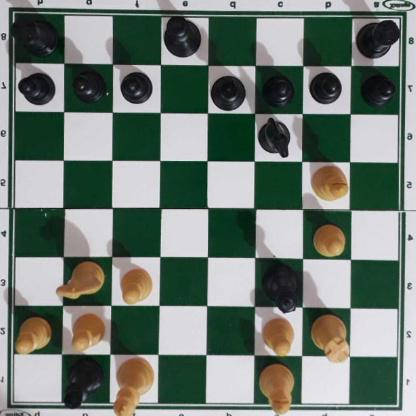black-bishop: (63, 358, 105, 410), (211, 73, 248, 111)
black-king: (164, 14, 204, 57)
black-knight: (257, 117, 294, 158)
black-pawn: (20, 69, 56, 105), (72, 68, 106, 101), (121, 68, 153, 103), (363, 71, 396, 104), (264, 71, 295, 106), (312, 70, 343, 104)
black-queen: (262, 261, 302, 315)
black-rook: (356, 15, 404, 58), (10, 14, 58, 55)
white-bishop: (257, 362, 295, 414), (312, 164, 350, 201)
white-king: (111, 357, 155, 416)
white-knight: (55, 259, 107, 300)
white-pawn: (70, 312, 107, 352), (262, 316, 297, 356), (16, 316, 53, 352), (312, 222, 348, 259), (121, 266, 154, 303)
white-rook: (309, 312, 352, 363)
